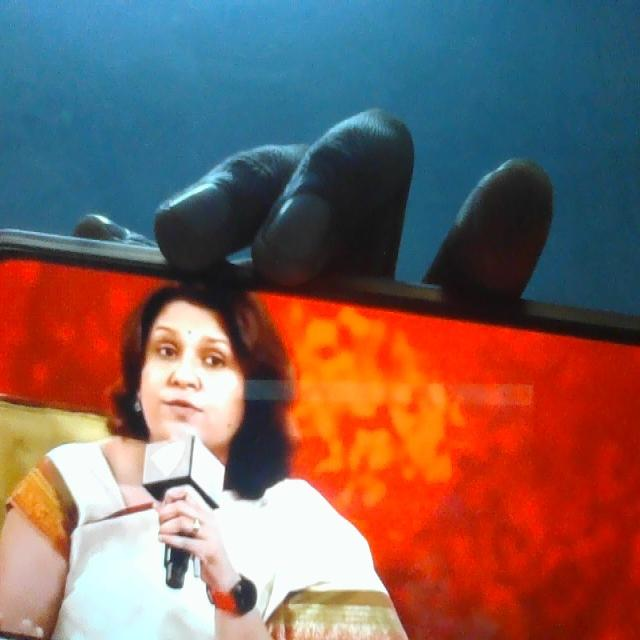fake: (139, 248, 255, 467)
